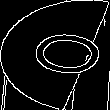O_E: (7, 27, 103, 83)
